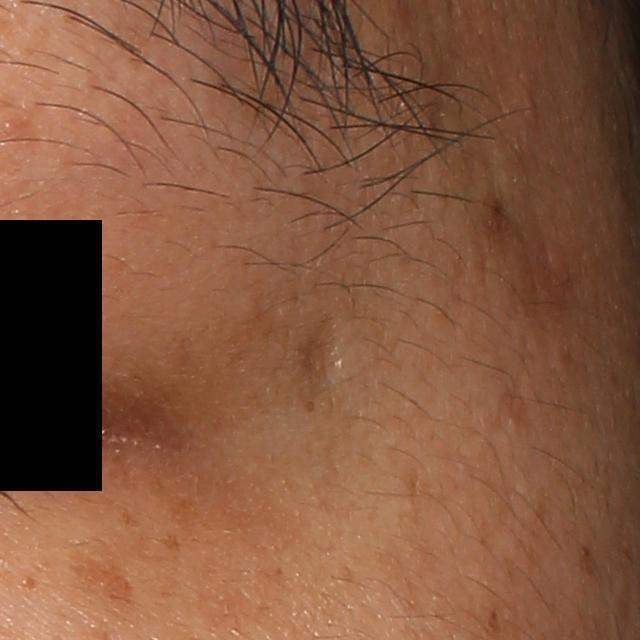atrophic_scar: (416, 53, 513, 179), (294, 315, 345, 402)
melasma: (64, 543, 144, 619), (147, 454, 220, 532)
